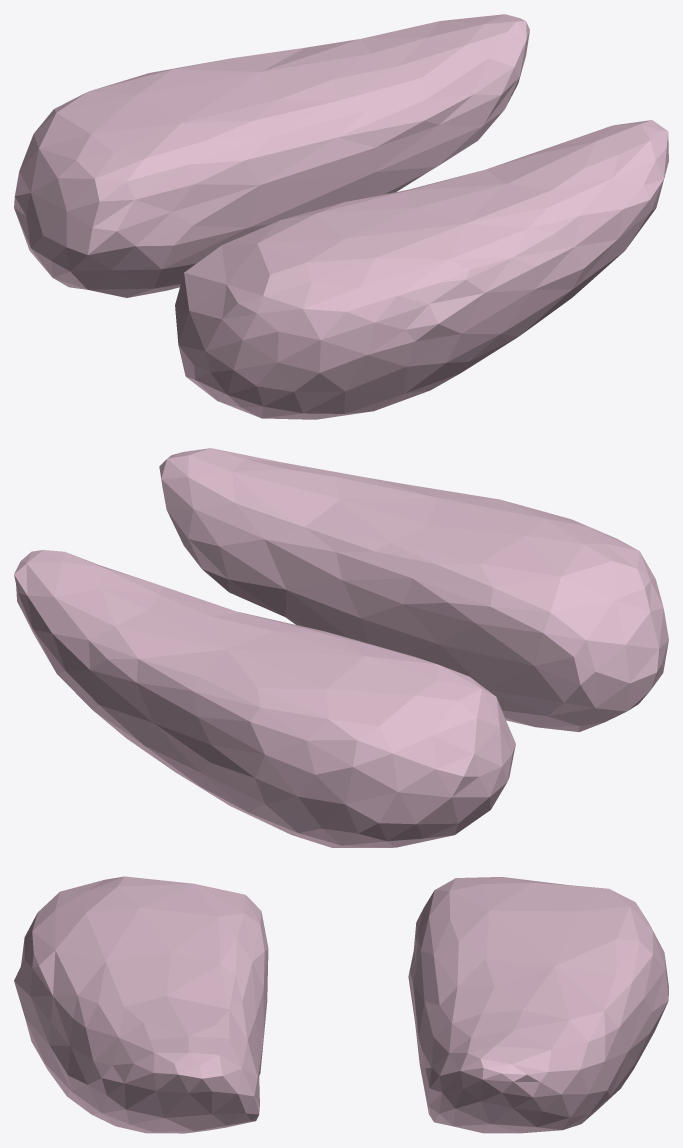
3 renders of one model, top to bottom at view 1: azimuth 30°, elevation 25°; view 2: azimuth 150°, elevation 25°; view 3: azimuth 270°, elevation 25°, orthographic. The views are drawn at different scales.
Visible parts, largest first — view 1: 970.obj; view 2: 970.obj; view 3: 970.obj.
Part boxes in pixels (box(x1,y1,x2,y2)): 970.obj: box(14, 14, 668, 419); 970.obj: box(14, 448, 668, 847); 970.obj: box(14, 876, 668, 1133).
Size of the model in its own units: 1067 by 384 by 1157.
